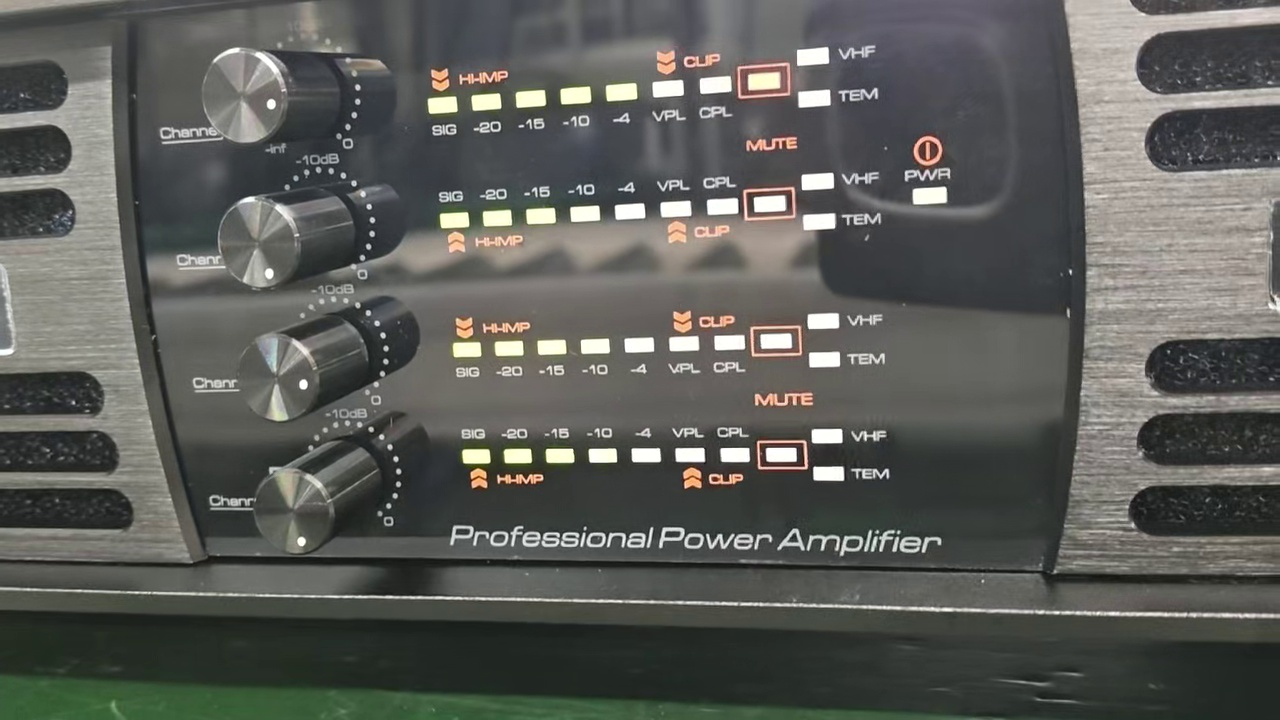FP_CPL: (695, 73, 737, 132), (701, 170, 740, 222), (709, 329, 747, 382), (716, 418, 754, 469)
FP_PWR: (898, 165, 958, 208)
FP_PWR_area: (895, 125, 958, 215)
FP_SIG_area: (417, 39, 897, 137), (435, 167, 885, 256), (449, 304, 891, 383), (454, 418, 894, 494)
FP_VPL: (646, 74, 691, 131), (655, 171, 695, 224), (664, 330, 705, 380), (669, 420, 710, 467)
